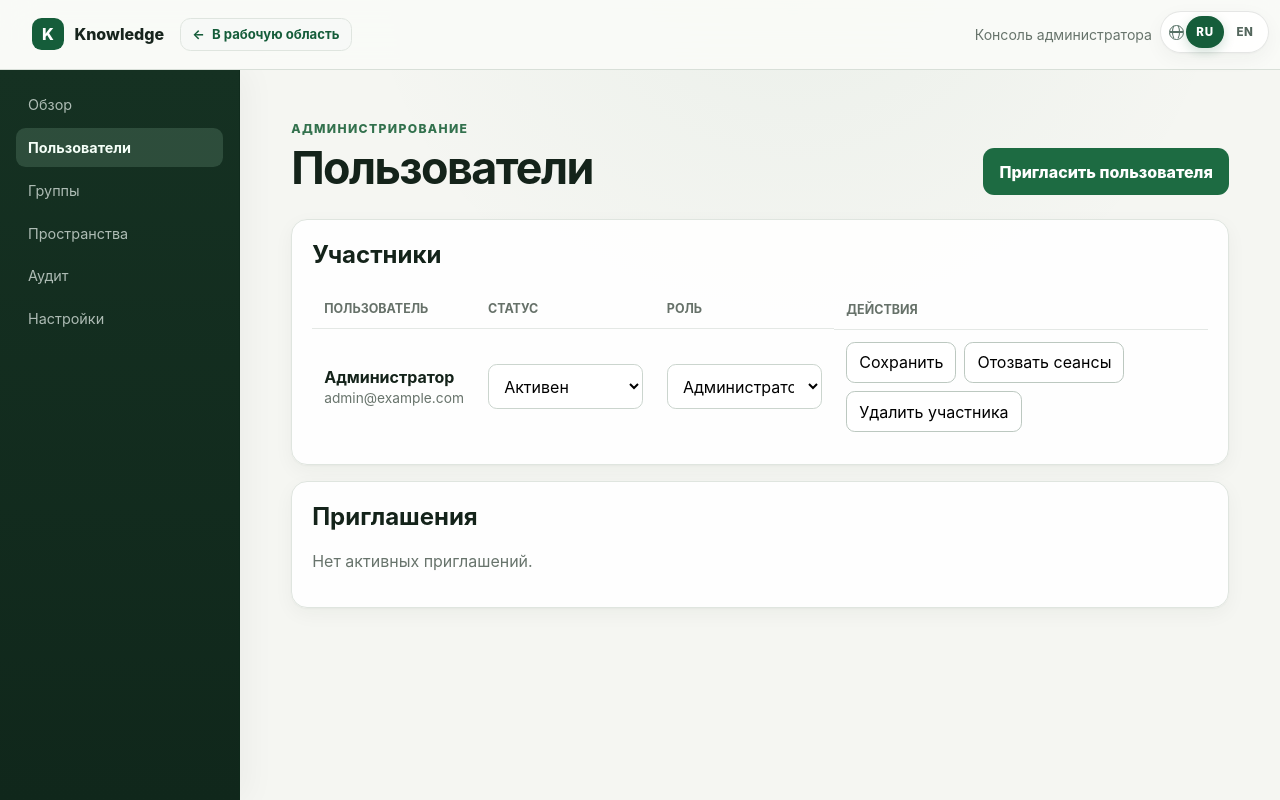
Scenario: users and invitations administration › refreshes the session after self-revocation and follows confirmed 401 semantics
Click the button with aria-label "Отозвать сеансы участника Администратор": (1044,362) 964,342 -> 1124,383
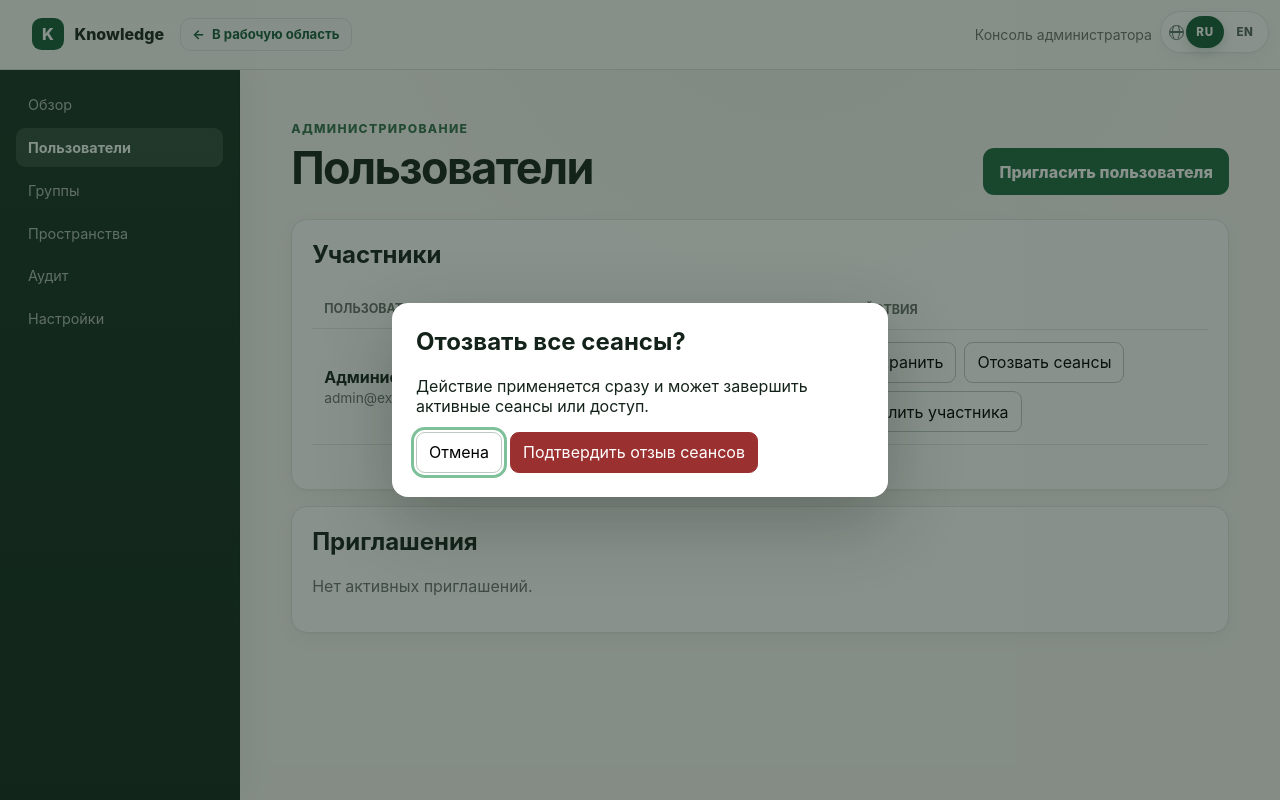
Click the button "Подтвердить отзыв сеансов": (634,452) 510,432 -> 758,473
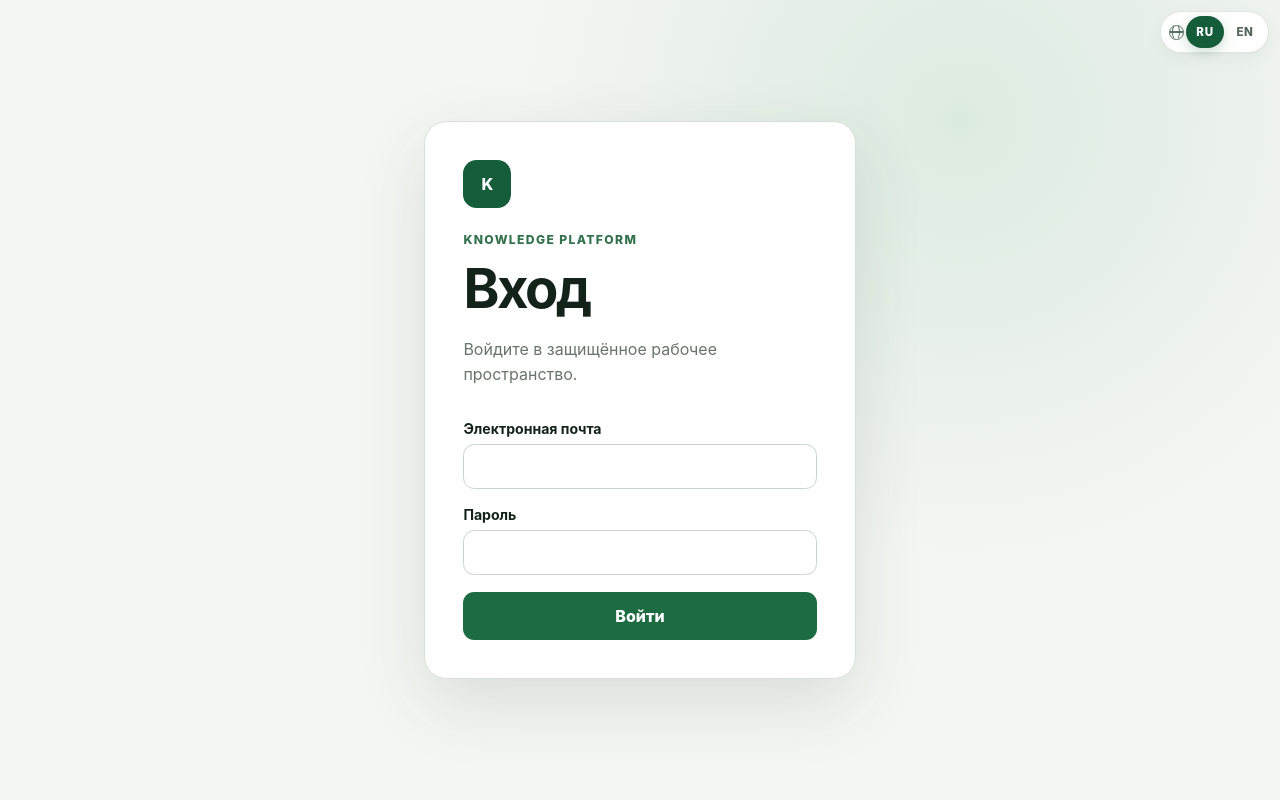
Now the heading "Вход" is shown, box 463,254 -> 589,320
